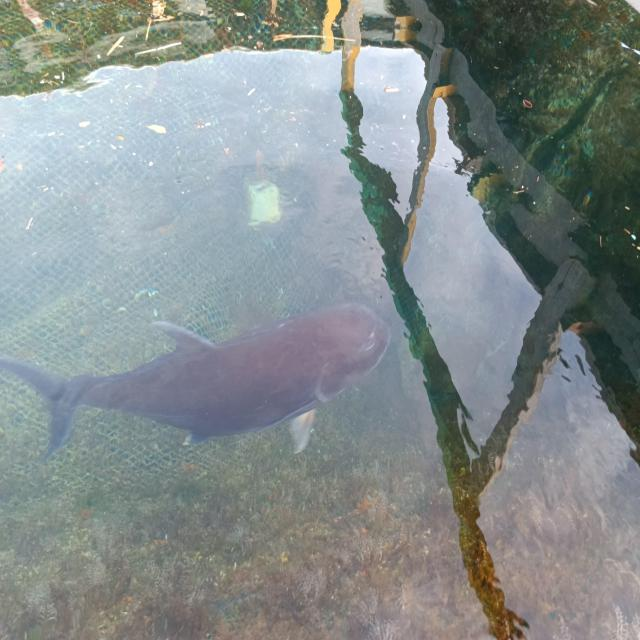ikan: (25, 278, 392, 472)
